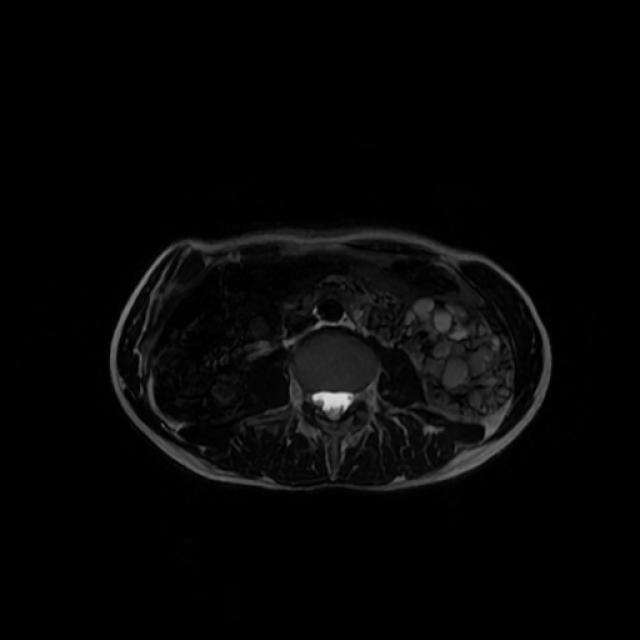sag: (150, 290, 282, 423)
sol: (393, 297, 516, 421)
